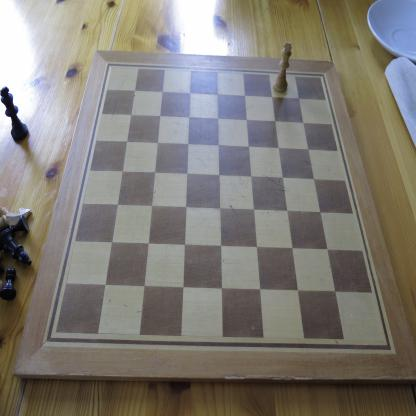black-bishop: (0, 229, 32, 267)
black-king: (0, 85, 29, 142)
black-pawn: (0, 267, 17, 302)
white-king: (272, 41, 292, 93)
white-knight: (0, 207, 33, 229)
